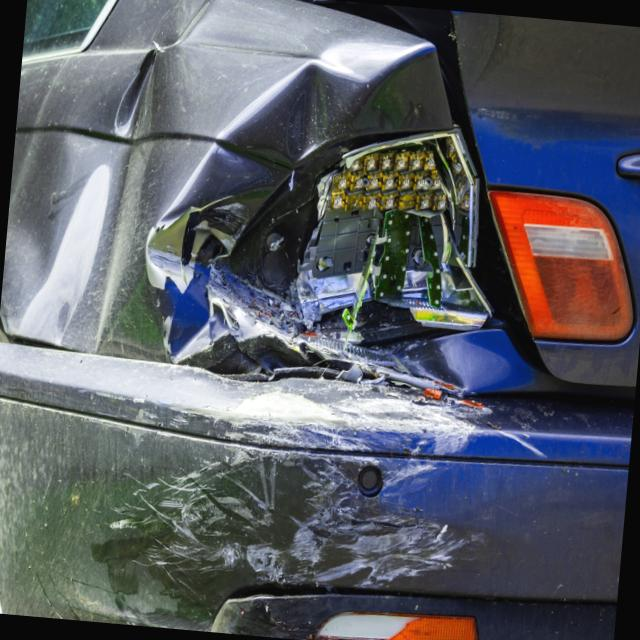Cabossage: (162, 28, 411, 349), (0, 11, 196, 402)
Phare abime: (183, 104, 498, 355)
Rayure: (75, 377, 504, 596), (73, 571, 281, 637)
